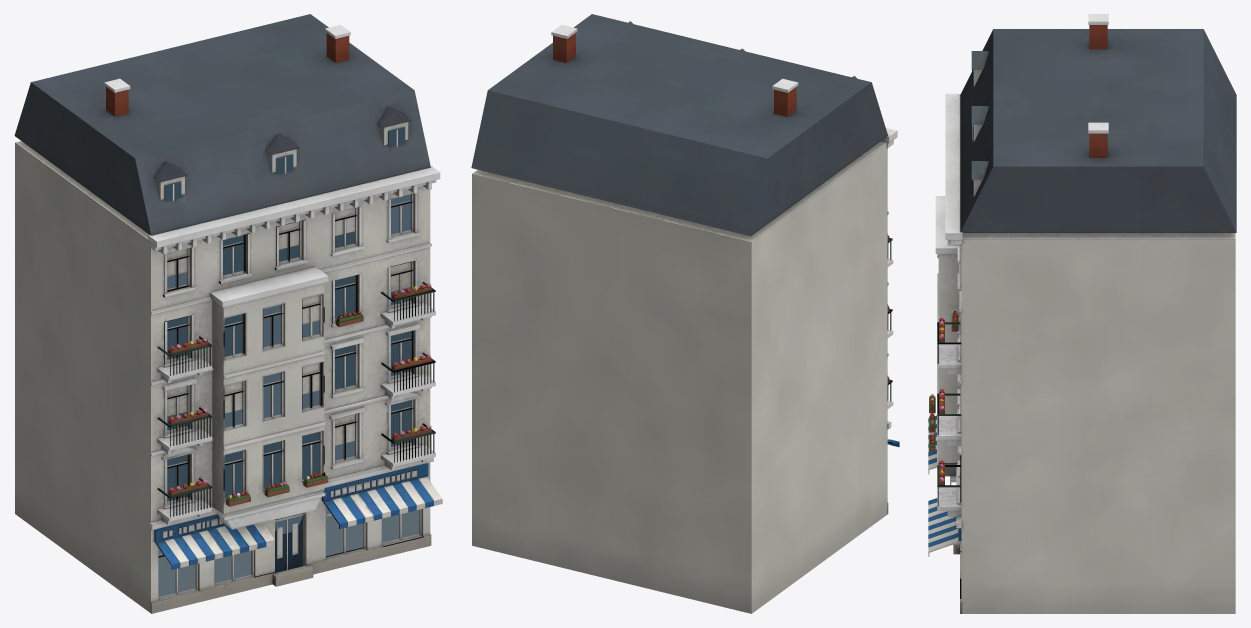
The model's file is getkong-hh2.glb.
3 renders of one model, left to right at view 1: azimuth 30°, elevation 25°; view 2: azimuth 150°, elevation 25°; view 3: azimuth 270°, elevation 25°, orthographic.
Parts seen in each view (by area): view 1: Haus; view 2: Haus; view 3: Haus.
Part boxes in pixels (x1,y1,x2,y2): Haus: [14, 14, 442, 613]; Haus: [471, 14, 899, 613]; Haus: [928, 14, 1236, 613].
Bounding box in the file's own units: 14.45 × 22.95 × 13.5.
Materials: 4 (1 with a texture image).
